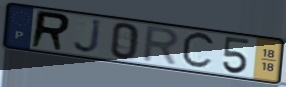0: (108, 21, 141, 62)
5: (221, 35, 252, 76)
C: (179, 31, 218, 71)
J: (72, 18, 103, 56)
R: (28, 9, 73, 53), (140, 24, 183, 68)
